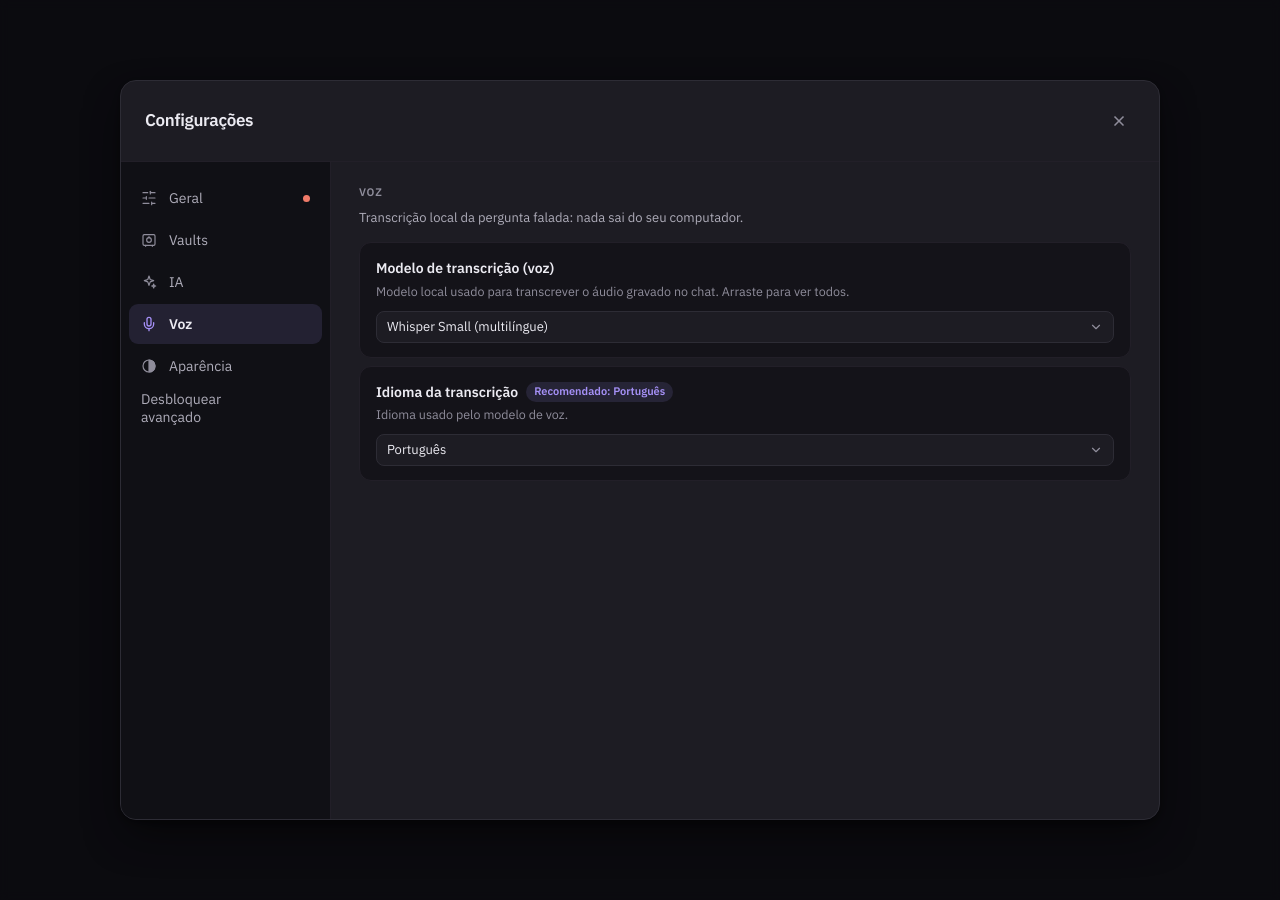
Test: SettingsModal › IA local: lista os modelos instalados ao abrir a aba e o campo Modelo vira lista
The image size is (1280, 900).
Click the button "IA" at [226, 282], box [129, 262, 322, 302]
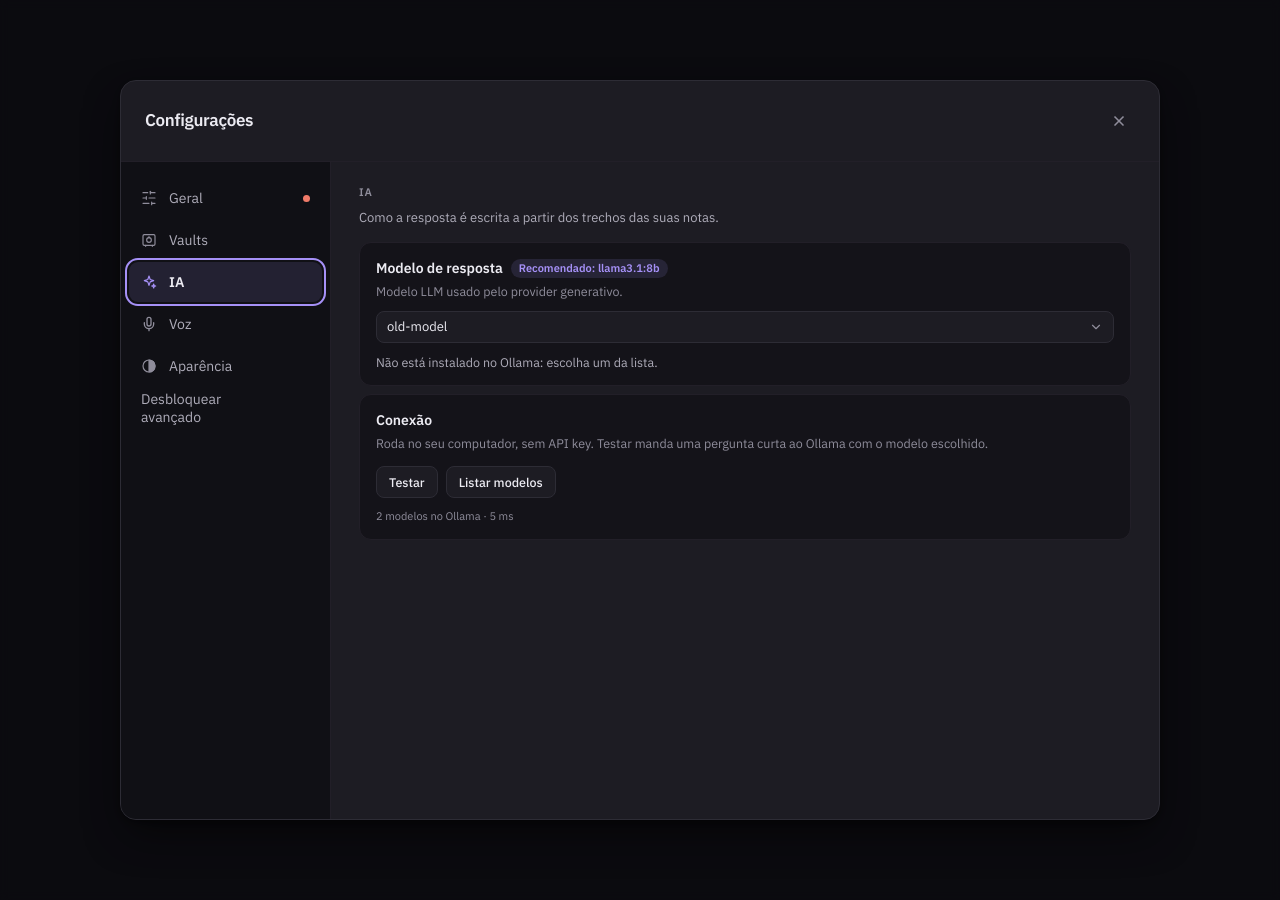
Check: the text "Não está instalado no Ollama: escolha um da lista." is shown, box [376, 354, 658, 370]
Click the dropdown named "Modelo de resposta" at [417, 327], box [376, 310, 1114, 342]
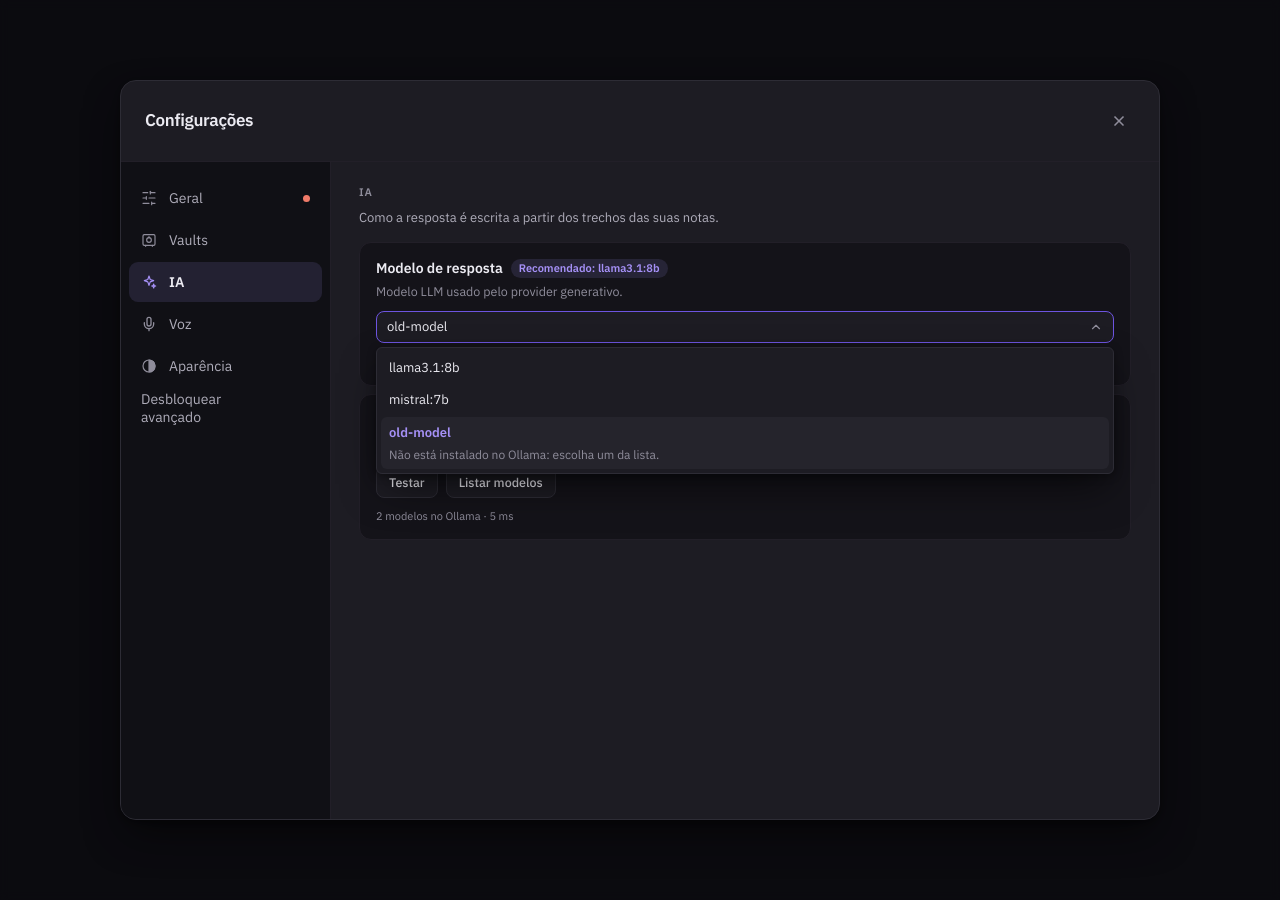
Click the option "mistral:7b" at [419, 400], box [389, 391, 449, 408]
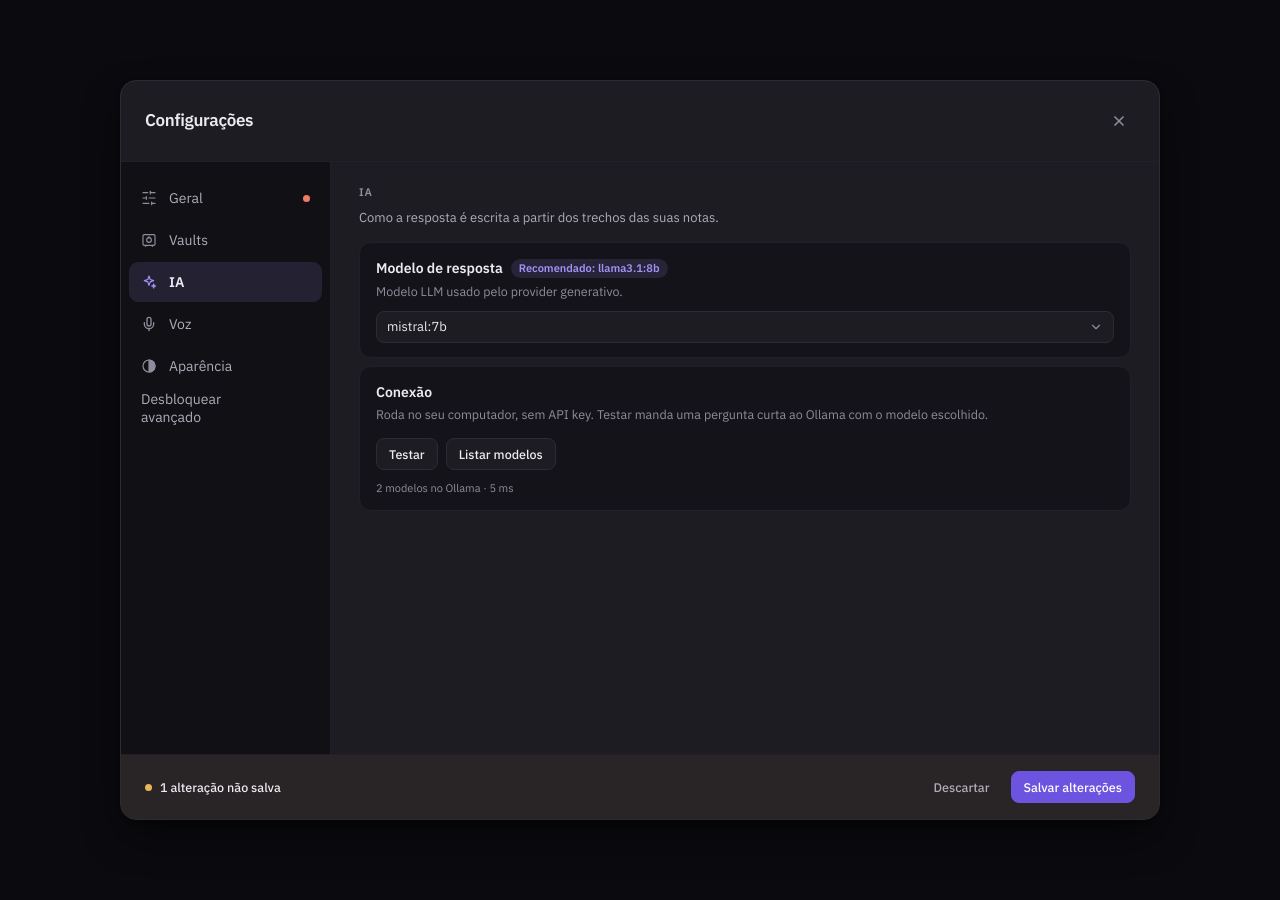
Check: the element named "Alterações não salvas" is shown, box [121, 754, 1159, 819]
